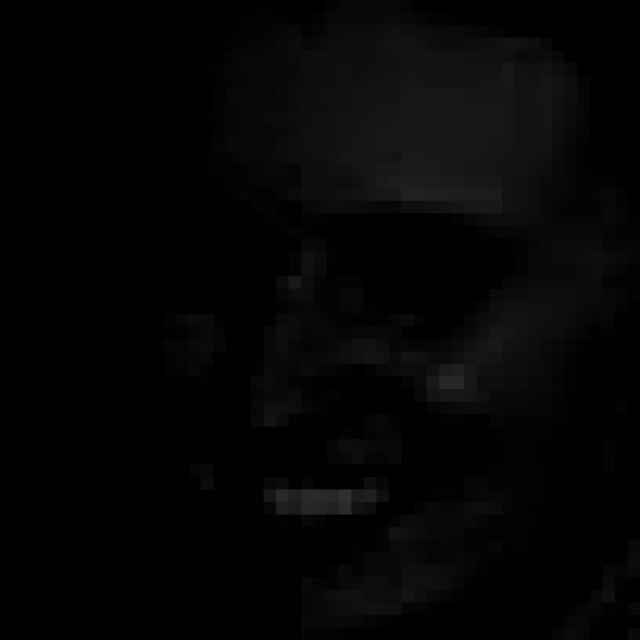real: (118, 17, 592, 603), (154, 187, 514, 305)
